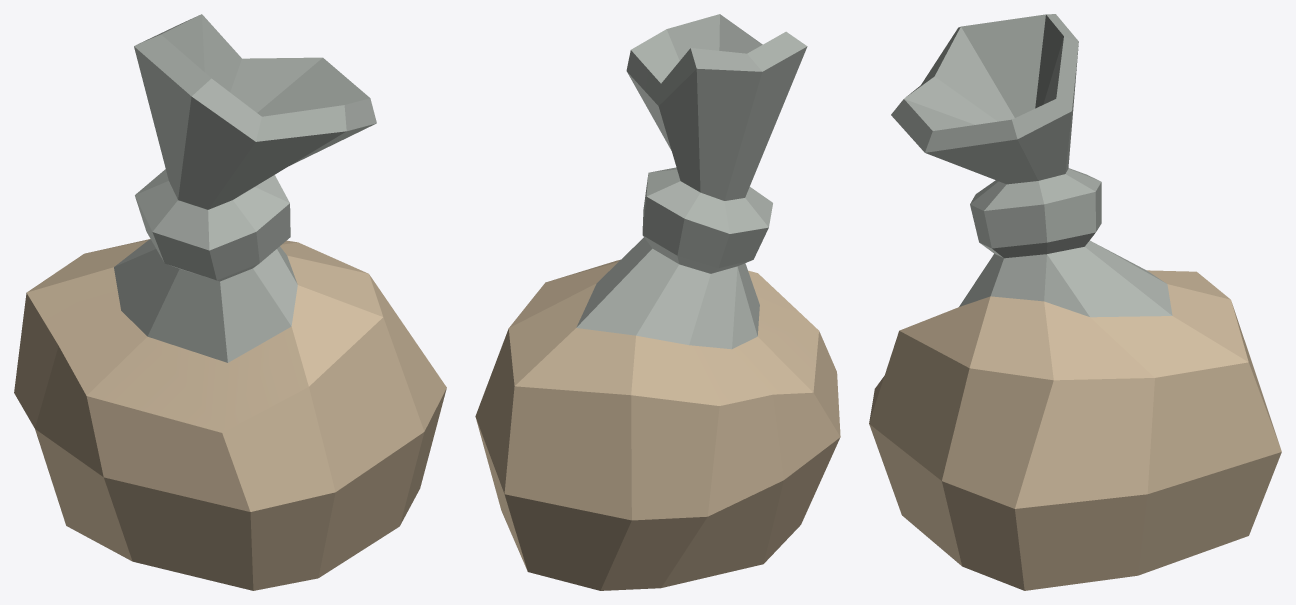
File: SM_Prop_Bag_White_03.obj
The picture shows the model from 3 angles, left to right: view 1: azimuth 30°, elevation 25°; view 2: azimuth 150°, elevation 25°; view 3: azimuth 270°, elevation 25°; orthographic projection. The views are drawn at different scales.
Parts seen in each view (by area): view 1: SM_Prop_Bag_White_03_0; view 2: SM_Prop_Bag_White_03_0; view 3: SM_Prop_Bag_White_03_0.
Part boxes in pixels (x1,y1,x2,y2): SM_Prop_Bag_White_03_0: (14, 14, 446, 590); SM_Prop_Bag_White_03_0: (475, 14, 840, 590); SM_Prop_Bag_White_03_0: (869, 14, 1281, 590).
Bounding box in the file's own units: 0.1207 × 0.1745 × 0.1333.
1 material, 1 textured.
